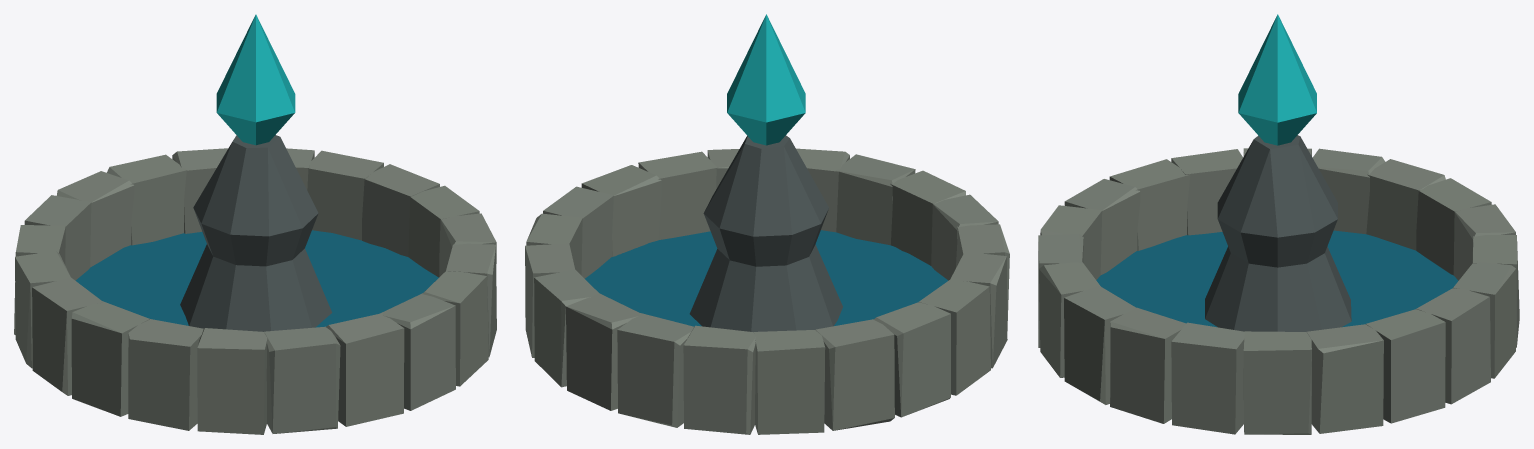
Rendered from Fonte_de_cristal_LOD1.fbx.
The picture shows the model from 3 angles, left to right: view 1: azimuth 30°, elevation 25°; view 2: azimuth 150°, elevation 25°; view 3: azimuth 270°, elevation 25°; orthographic projection.
Visible parts, largest first — view 1: Fonte_de_cristal_LOD1; view 2: Fonte_de_cristal_LOD1; view 3: Fonte_de_cristal_LOD1.
Boxes of the visible parts, x1,y1,x2,y2 form: Fonte_de_cristal_LOD1: (14,14,496,434); Fonte_de_cristal_LOD1: (525,14,1009,434); Fonte_de_cristal_LOD1: (1038,14,1519,434).
Bounding box in the file's own units: 245 × 180 × 244.
1 material, 1 textured.
